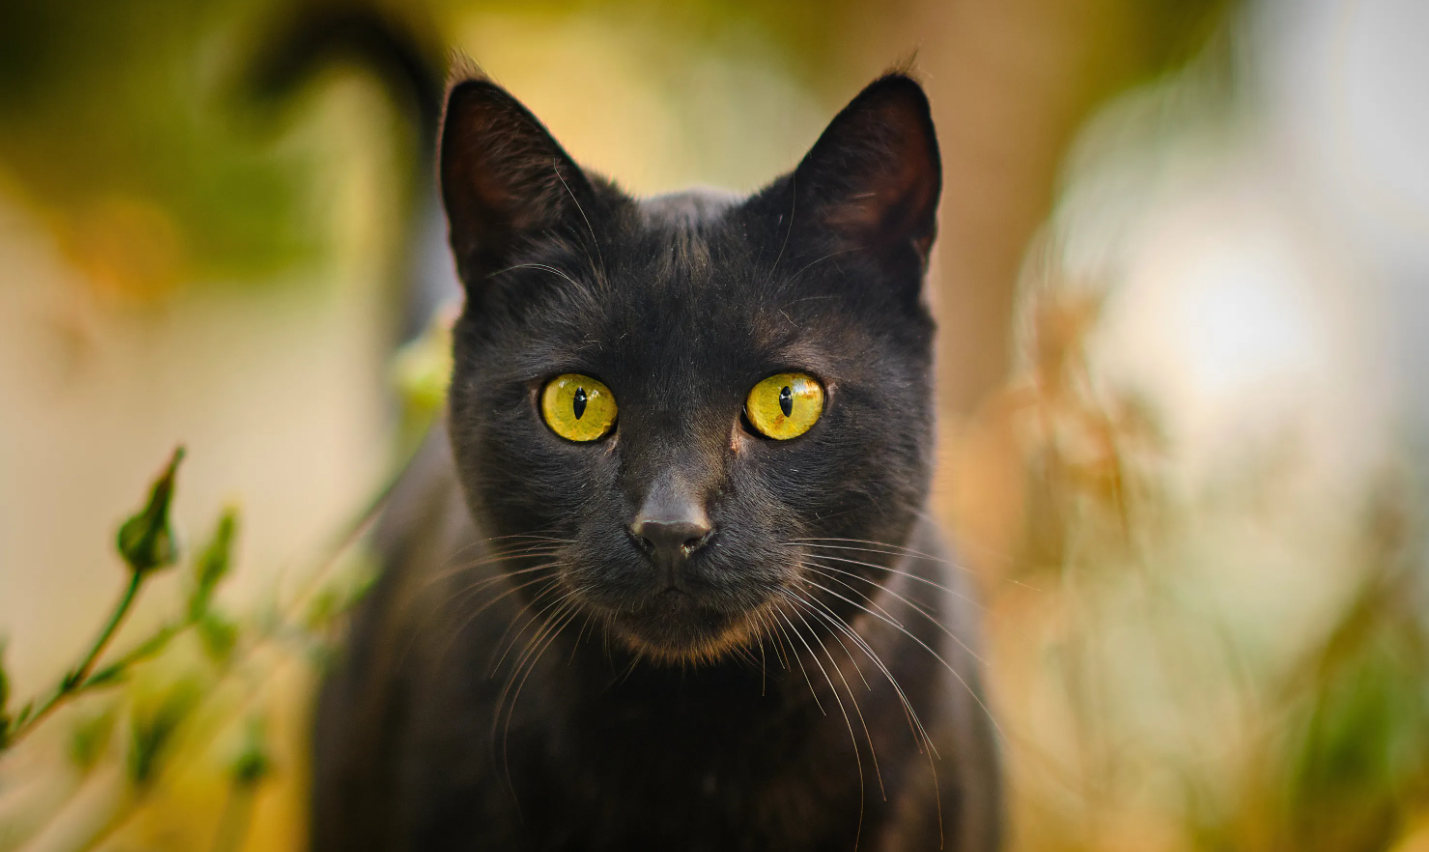gato: (329, 47, 998, 840)
